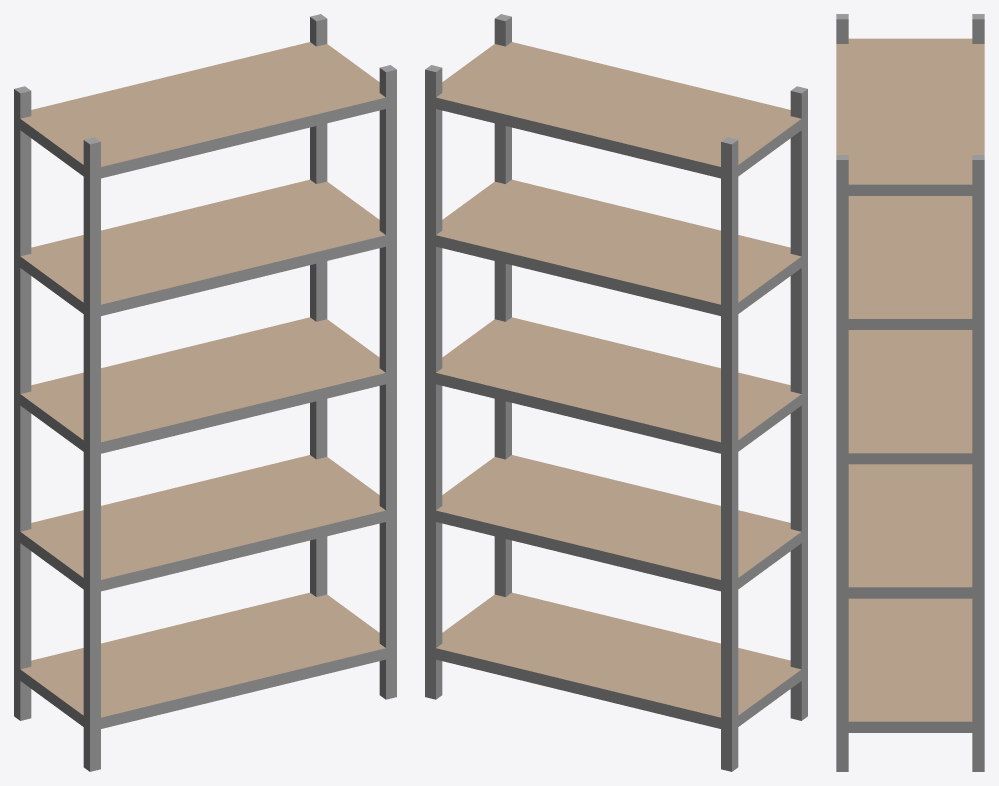
File: shelf.fbx
3 views of the same model, side by side, from view 1: azimuth 30°, elevation 25°; view 2: azimuth 150°, elevation 25°; view 3: azimuth 270°, elevation 25° (orthographic). The views are drawn at different scales.
Parts seen in each view (by area): view 1: shelf; view 2: shelf; view 3: shelf.
Part boxes in pixels (x1=…): shelf: x1=14, y1=14, x2=396, y2=771; shelf: x1=425, y1=14, x2=807, y2=771; shelf: x1=836, y1=14, x2=984, y2=771.
Size of the model in its own units: 140 by 274 by 60.
